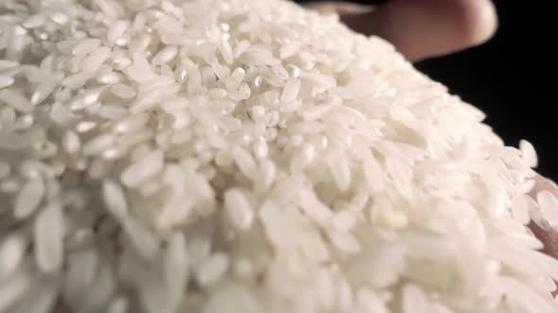rice: (1, 113, 470, 313)
